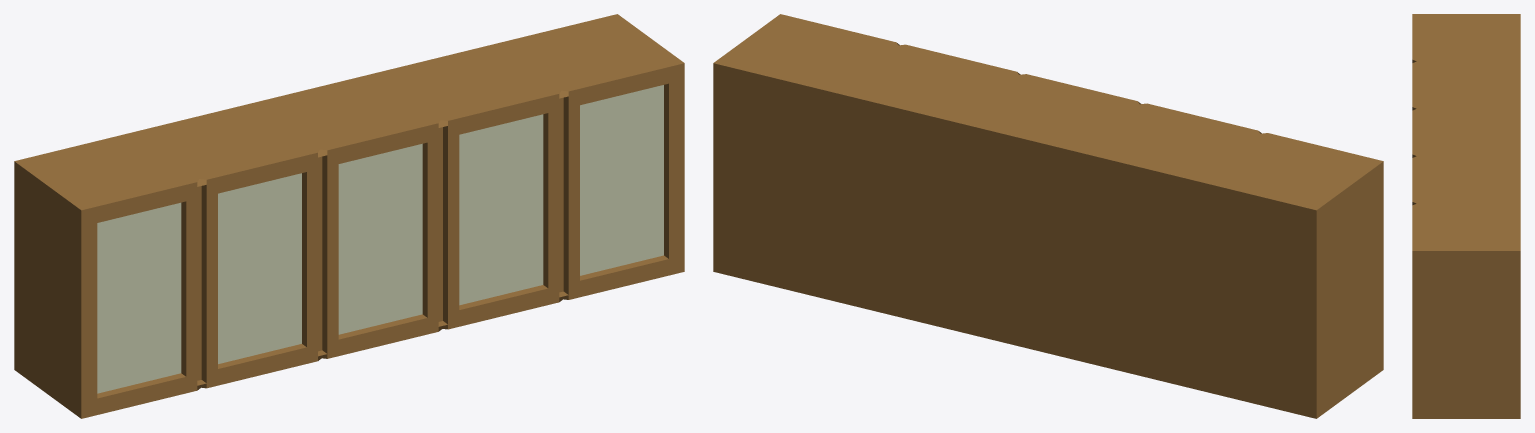
File: Cupboard_Material.fbx
3 renders of one model, left to right at view 1: azimuth 30°, elevation 25°; view 2: azimuth 150°, elevation 25°; view 3: azimuth 270°, elevation 25°, orthographic. The views are drawn at different scales.
Parts seen in each view (by area): view 1: Cupboard; view 2: Cupboard; view 3: Cupboard.
Part boxes in pixels (x1,y1,x2,y2): Cupboard: (14, 14, 684, 418); Cupboard: (713, 14, 1383, 418); Cupboard: (1412, 14, 1520, 418).
Size of the model in its own units: 1.67 by 0.5514 by 0.3219.
